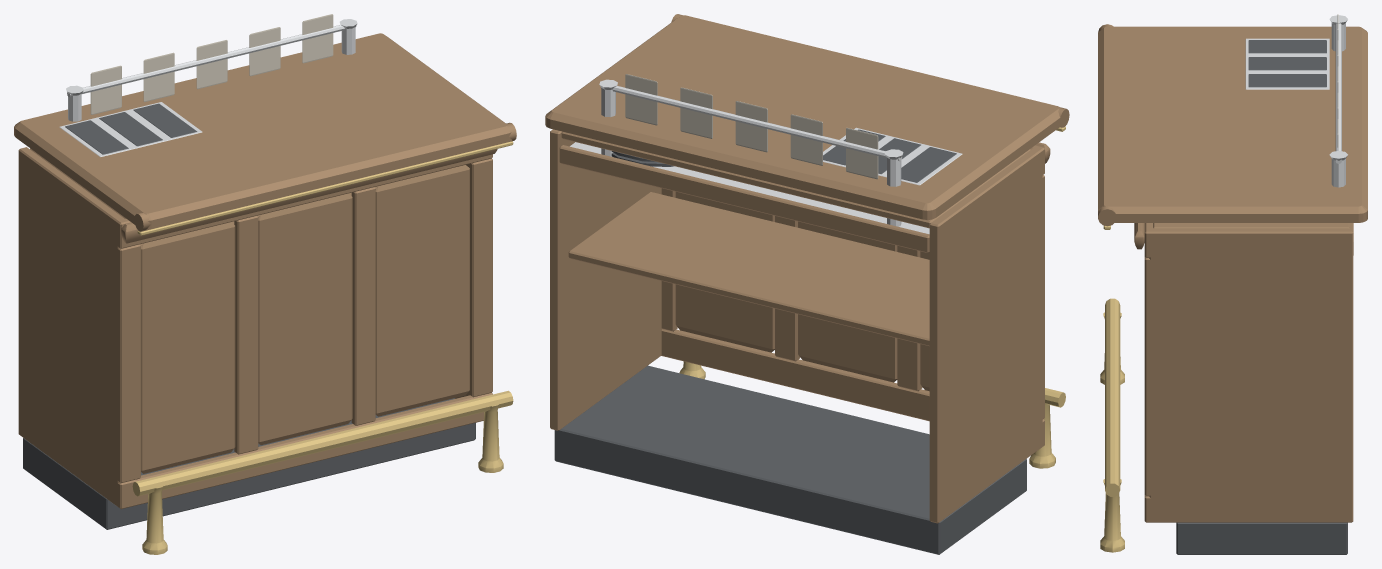
The model's file is bar-pub-and-brewery-taproom-bar-waiter-station-27e1004b__18320.glb.
3 renders of one model, left to right at view 1: azimuth 30°, elevation 25°; view 2: azimuth 150°, elevation 25°; view 3: azimuth 270°, elevation 25°, orthographic. The views are drawn at different scales.
Parts seen in each view (by area): view 1: bar-waiter-station; view 2: bar-waiter-station; view 3: bar-waiter-station.
Part boxes in pixels (x1,y1,x2,y2): bar-waiter-station: [14, 14, 516, 554]; bar-waiter-station: [545, 14, 1069, 554]; bar-waiter-station: [1098, 14, 1367, 554].
Bounding box in the file's own units: 1.2 × 1.18 × 0.74.
